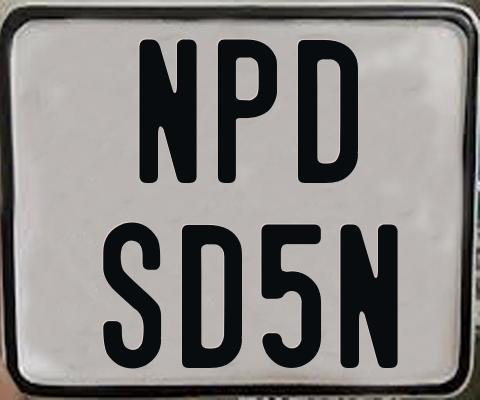5: (258, 222, 321, 372)
D: (182, 224, 244, 369), (297, 37, 357, 185)
N: (138, 39, 198, 187), (339, 222, 397, 368)
P: (217, 36, 276, 184)
S: (103, 221, 165, 370)
